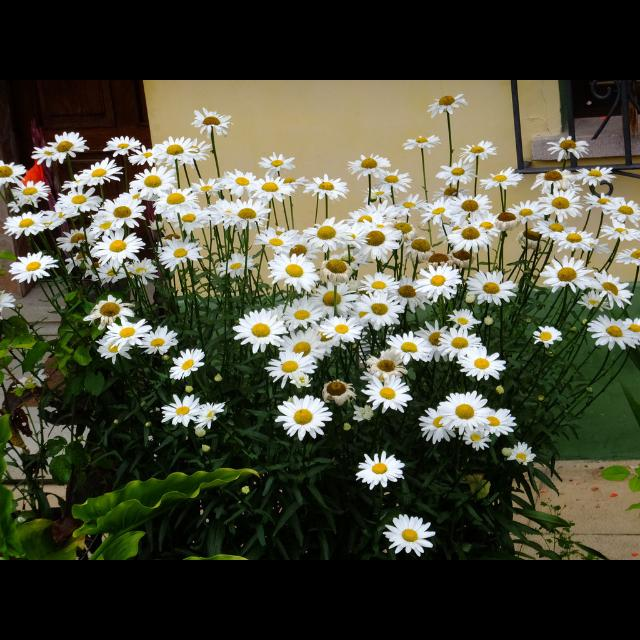Flower: (1, 130, 640, 424), (274, 392, 330, 442), (383, 512, 437, 560), (357, 450, 408, 490), (160, 393, 206, 427), (188, 108, 232, 140), (170, 348, 207, 380), (425, 94, 467, 118), (196, 400, 228, 430), (506, 442, 538, 468), (1, 290, 20, 316)
